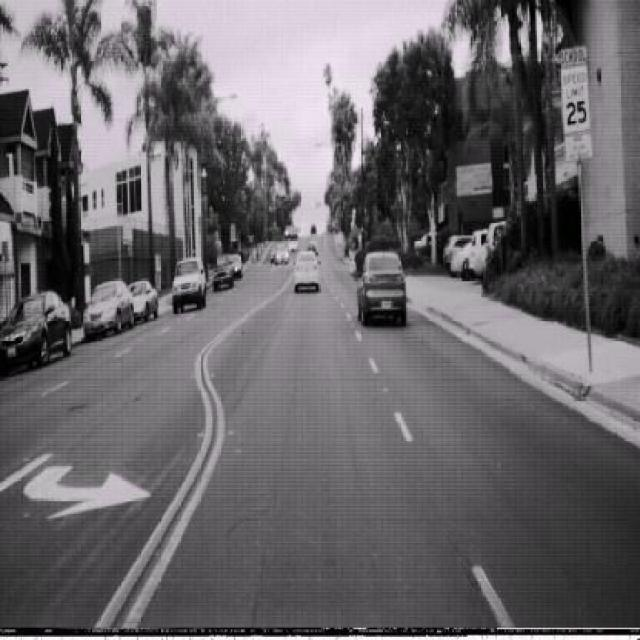schoolSpeedLimit25: (558, 45, 592, 162)
